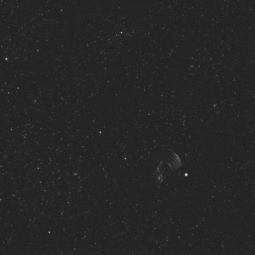debris: (144, 143, 184, 190)
